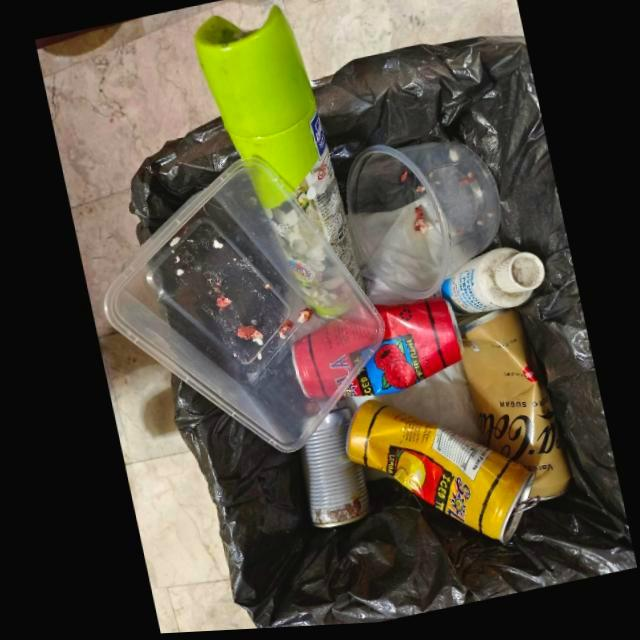aluminum: (194, 7, 360, 322), (342, 402, 535, 548), (454, 313, 565, 505), (288, 301, 459, 405), (296, 411, 366, 530)
plastic_bottle: (439, 252, 543, 318)
plastic_container: (100, 158, 382, 454), (345, 142, 500, 304)
